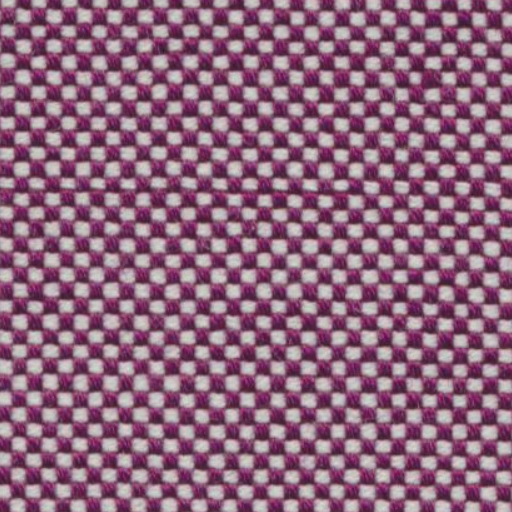TuoSha: (5, 158, 488, 222)
